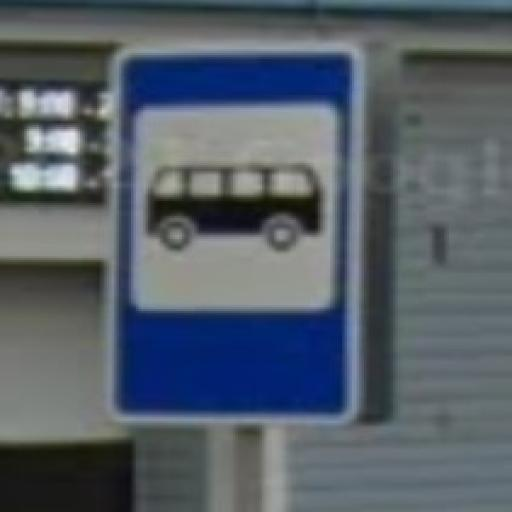traffic_sign: (103, 43, 370, 426)
